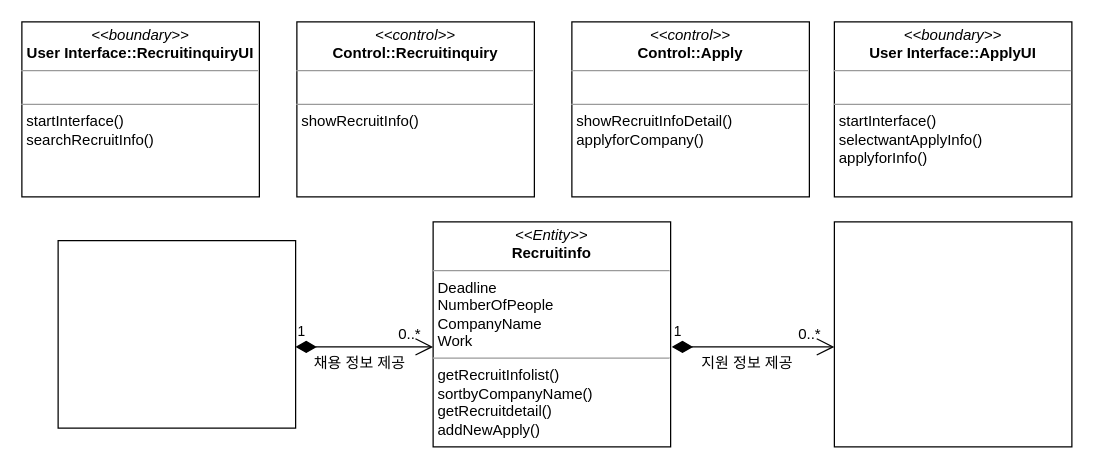
Some shapes in this 1094 by 469 pixel diagram are drawn without their labels. The shapes that lost their labels are listed below. From the top down, each one's centre as x and y in pixels, then its label:
At (176,333): "<<Entity>> Company companyName listRecruitInfo()".
At (952,334): "<<Entity>> Applyinfo Deadline NumberOfPeople CompanyName Work Applyinfo()".
